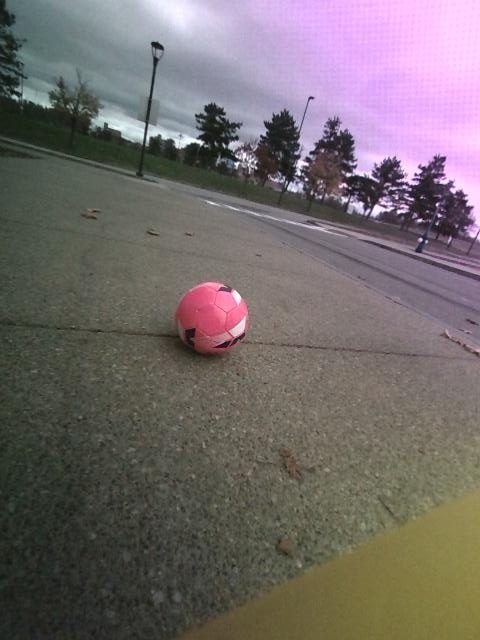ball: (176, 282, 247, 353)
